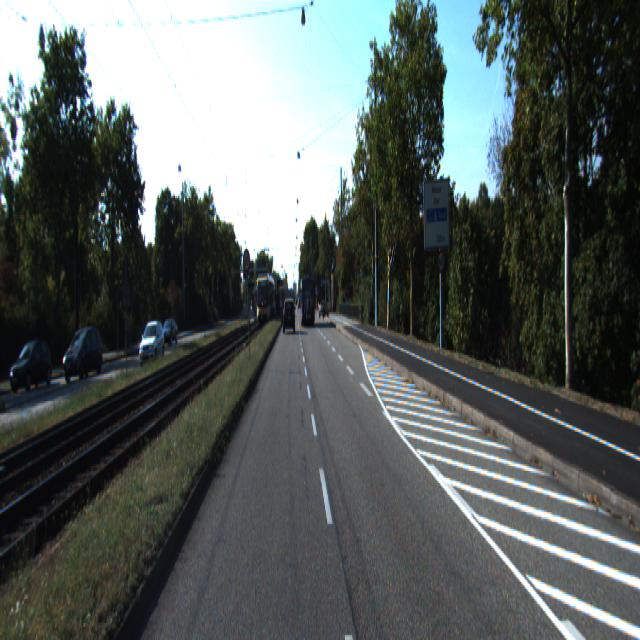Car: (8, 341, 56, 394), (63, 328, 104, 386), (139, 321, 167, 368), (300, 276, 315, 326), (284, 300, 295, 334)
